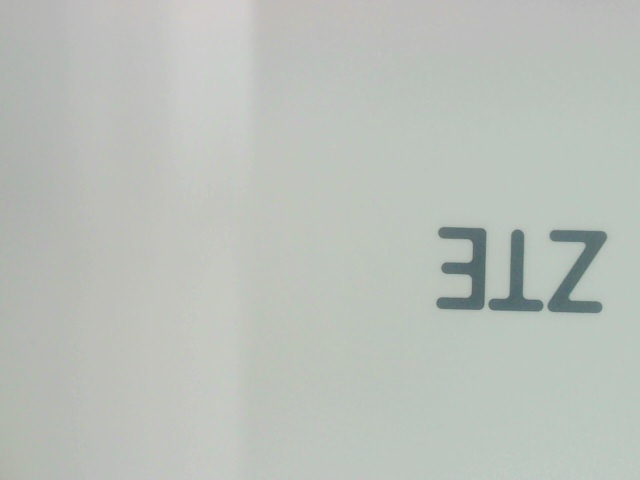AN_ZTELarge: (421, 210, 633, 329)
